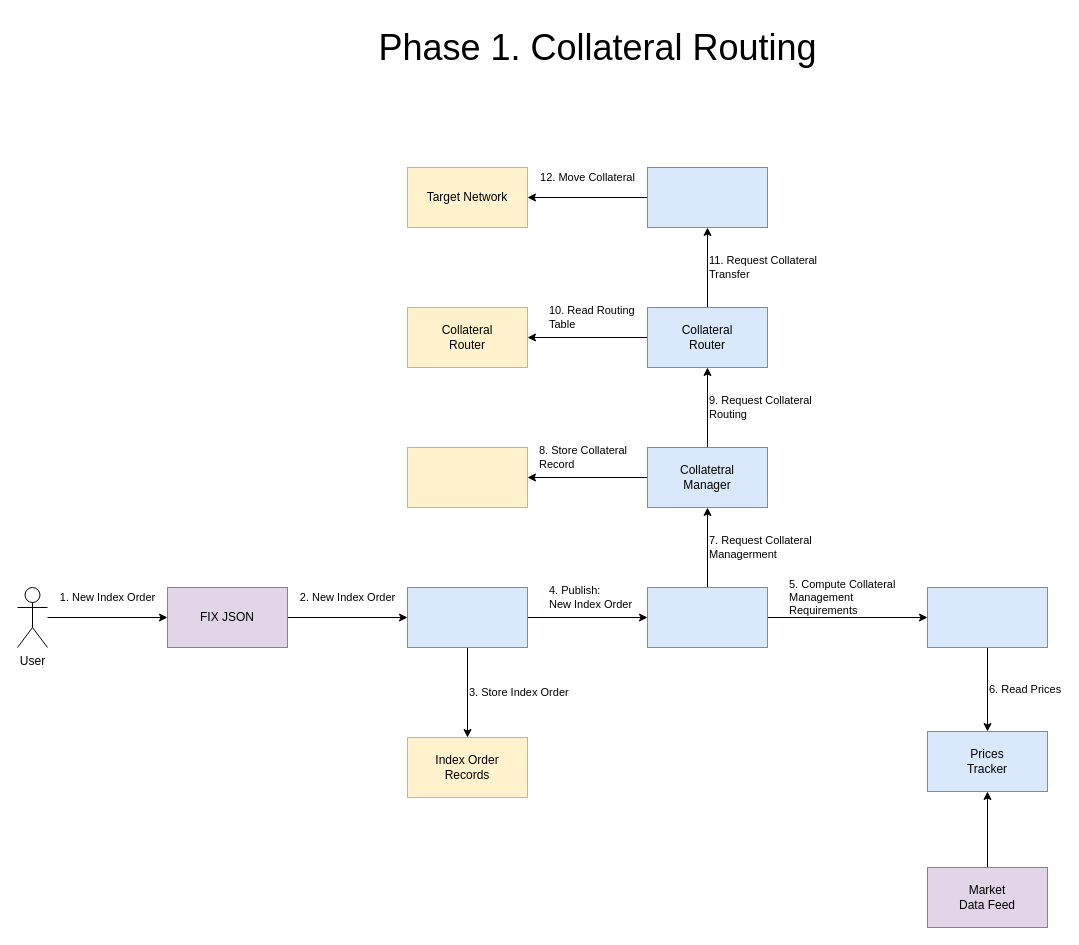
This 1079x945 diagram has some shape labels left out. The centre of each missing label's shape, as x and y in pixels:
"Collateral Bridge" belongs at [707,197].
"Collateral Records" belongs at [467,477].
"Index Order Manager" belongs at [467,617].
"Solver" belongs at [707,617].
"Solver Strategy" belongs at [987,617].
